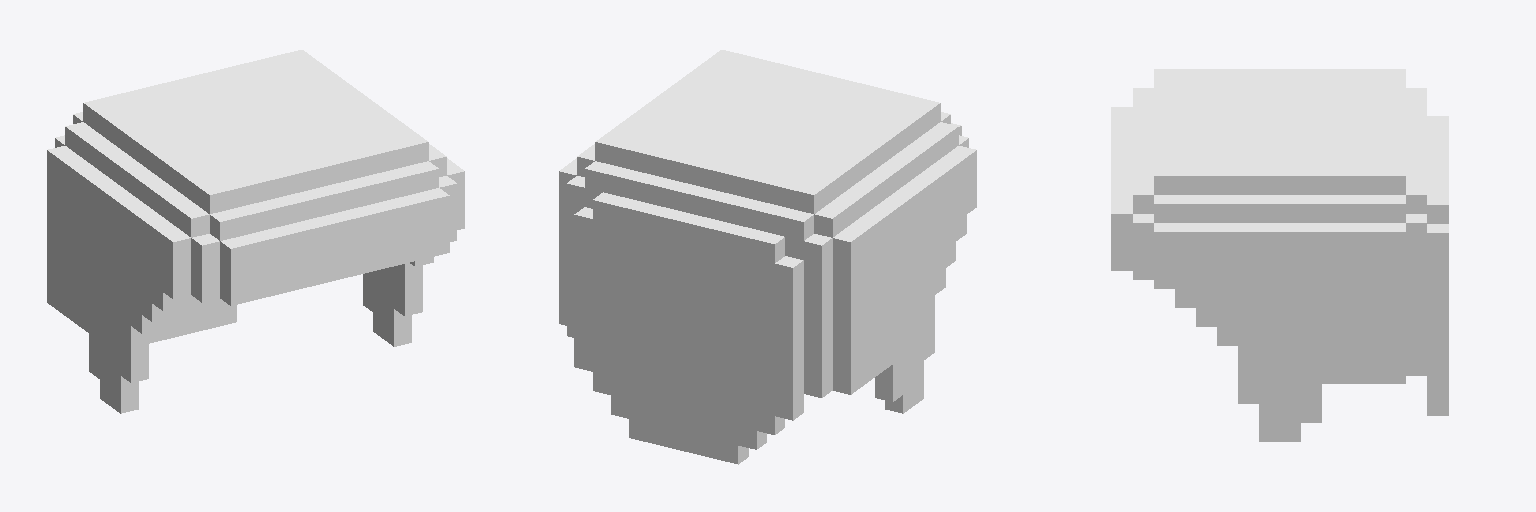
File: SombreroS.obj
The picture shows the model from 3 angles: view 1: azimuth 30°, elevation 25°; view 2: azimuth 150°, elevation 25°; view 3: azimuth 270°, elevation 25°; orthographic projection.
Parts seen in each view (by area): view 1: object 1; view 2: object 1; view 3: object 1.
Part boxes in pixels (x1,y1,x2,y2): object 1: (47, 50, 464, 413); object 1: (559, 50, 976, 464); object 1: (1111, 69, 1448, 441).
Size of the model in its own units: 3.2 by 2.8 by 3.2.